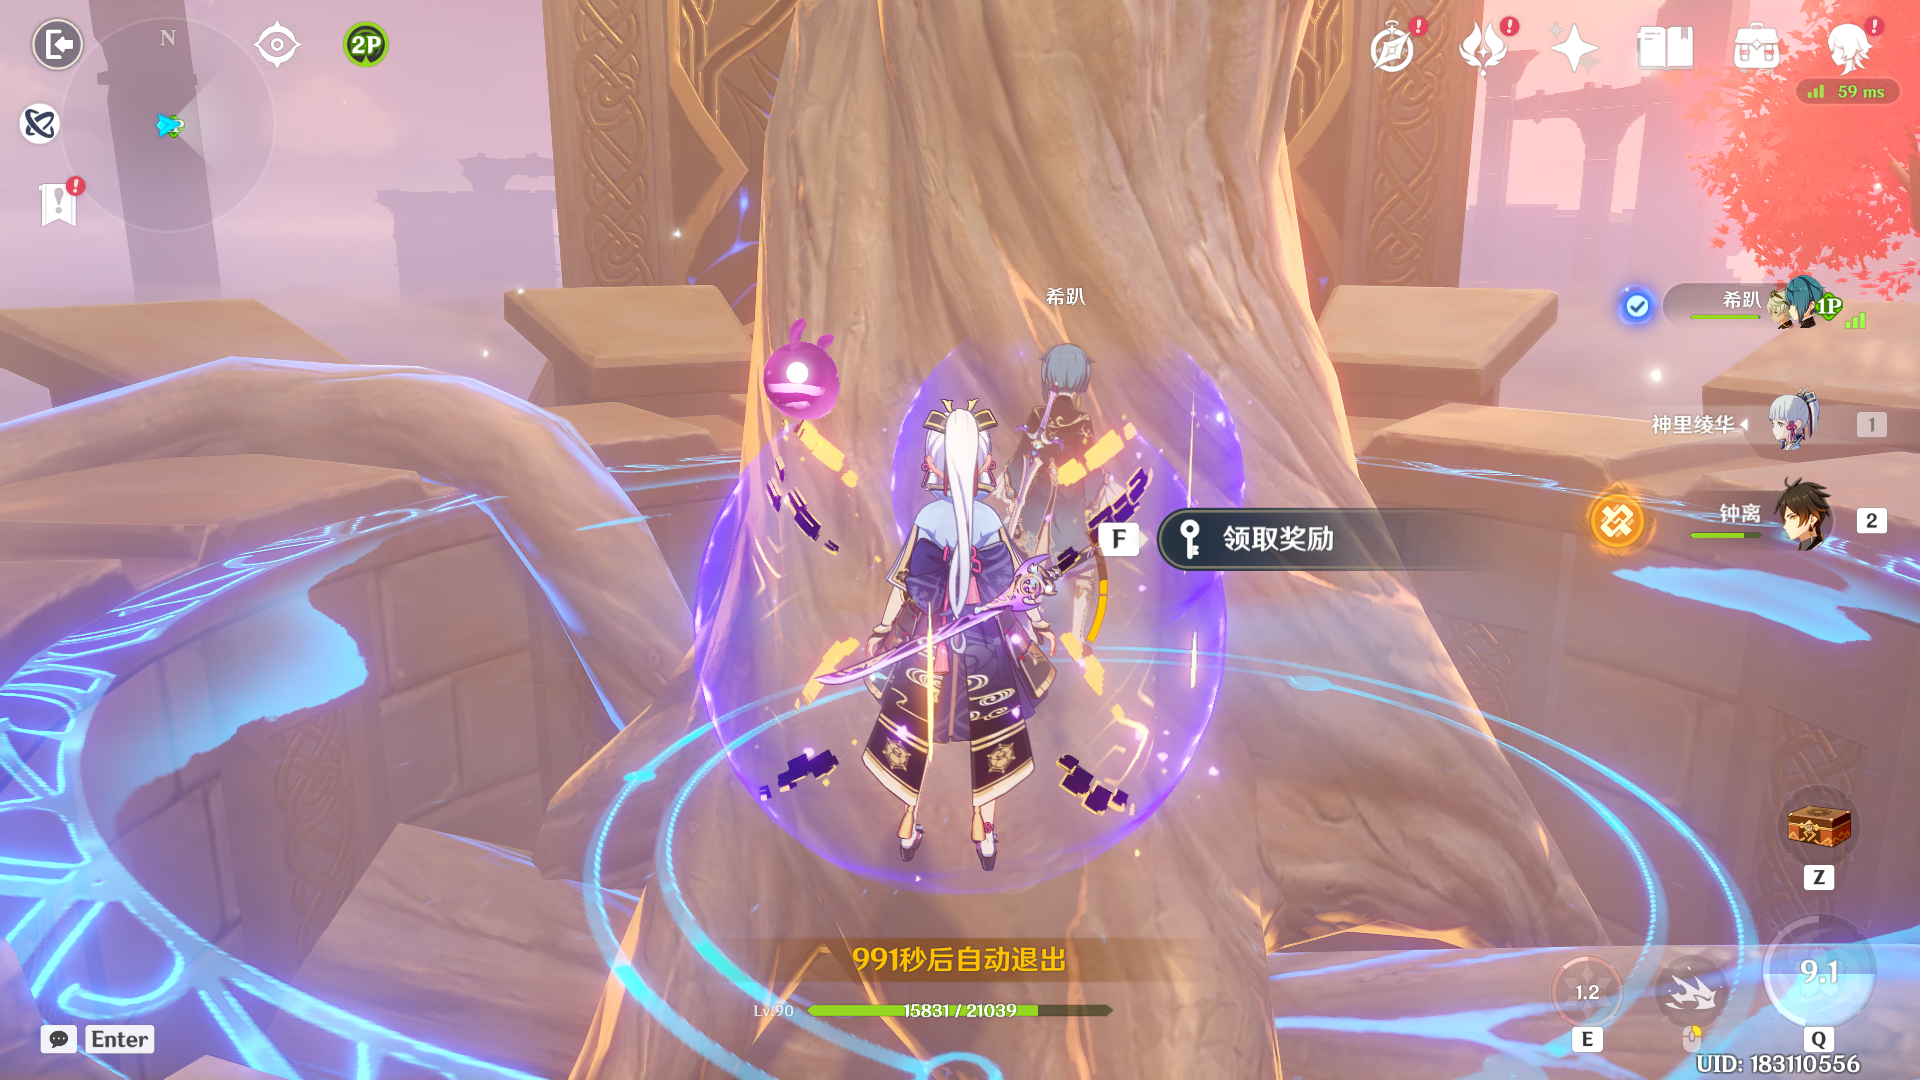character: (793, 386, 1087, 887), (996, 327, 1188, 709)
